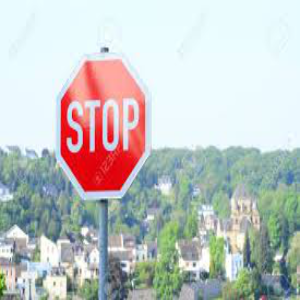STOP_SIGN: (55, 54, 151, 198)
